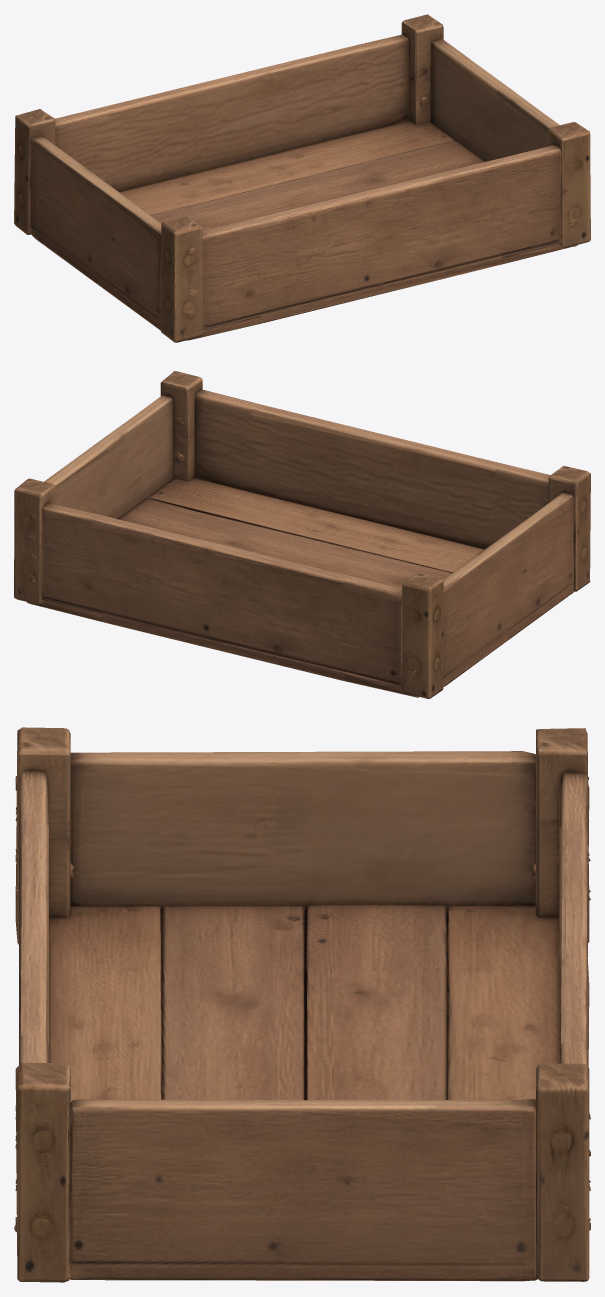
File: WoodenCrate_low.fbx
3 views of the same model, one above another, from view 1: azimuth 30°, elevation 25°; view 2: azimuth 150°, elevation 25°; view 3: azimuth 270°, elevation 25° (orthographic). The views are drawn at different scales.
Visible parts, largest first — view 1: WoodenCrate_low; view 2: WoodenCrate_low; view 3: WoodenCrate_low.
Part boxes in pixels (left/top/right/bottom): WoodenCrate_low: left=14, top=14, right=590, bottom=342; WoodenCrate_low: left=14, top=371, right=590, bottom=698; WoodenCrate_low: left=14, top=727, right=590, bottom=1282.
Size of the model in its own units: 100 by 26.46 by 67.77.
